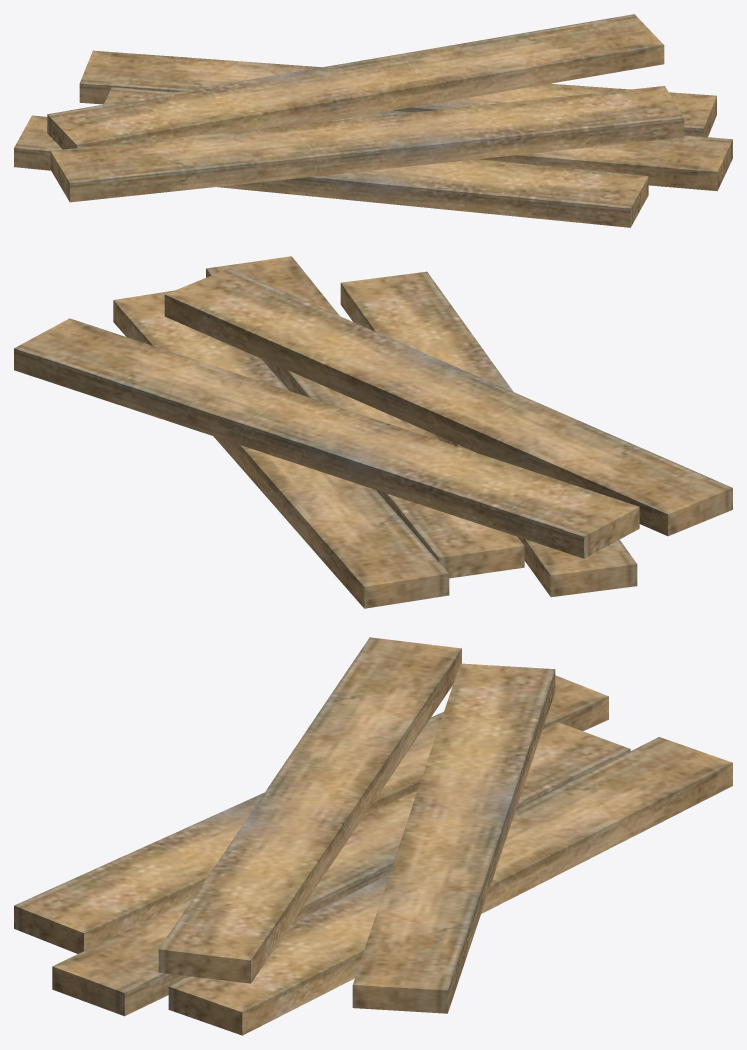
The model's file is repair_spot_wood.fbx.
3 renders of one model, top to bottom at view 1: azimuth 30°, elevation 25°; view 2: azimuth 150°, elevation 25°; view 3: azimuth 270°, elevation 25°, orthographic. The views are drawn at different scales.
Parts seen in each view (by area): view 1: wood_7, wood_9, wood_1, wood_2, wood_6, wood_10, wood_4, wood_8, wood_3, wood_5; view 2: wood_9, wood_7, wood_10, wood_2, wood_1, wood_6, wood_8, wood_5, wood_4, wood_3; view 3: wood_9, wood_7, wood_10, wood_6, wood_8, wood_5, wood_1, wood_4, wood_2, wood_3.
Boxes of the visible parts, x1,y1,x2,y2 form: wood_7: (51,86,683,183); wood_9: (47,14,663,144); wood_1: (50,118,684,202); wood_2: (47,45,664,149); wood_6: (14,115,648,208); wood_10: (79,50,716,128); wood_4: (14,148,648,227); wood_8: (104,87,732,171); wood_3: (479,140,732,191); wood_5: (79,83,716,136); wood_9: (14,318,639,536); wood_7: (165,268,732,514); wood_10: (113,290,448,586); wood_2: (14,348,639,558); wood_1: (164,295,732,536); wood_6: (341,271,636,575); wood_8: (206,256,524,557); wood_5: (113,300,449,608); wood_4: (340,283,637,597); wood_3: (206,269,524,578); wood_9: (353,663,554,990); wood_7: (159,637,461,960); wood_10: (169,737,732,1012); wood_6: (14,675,608,932); wood_8: (53,722,629,992); wood_5: (168,763,732,1035); wood_1: (158,649,461,983); wood_4: (14,696,608,953); wood_2: (352,669,555,1013); wood_3: (52,749,630,1016).
Size of the model in its own units: 653 by 40 by 562.
Materials: 1 (1 with a texture image).
